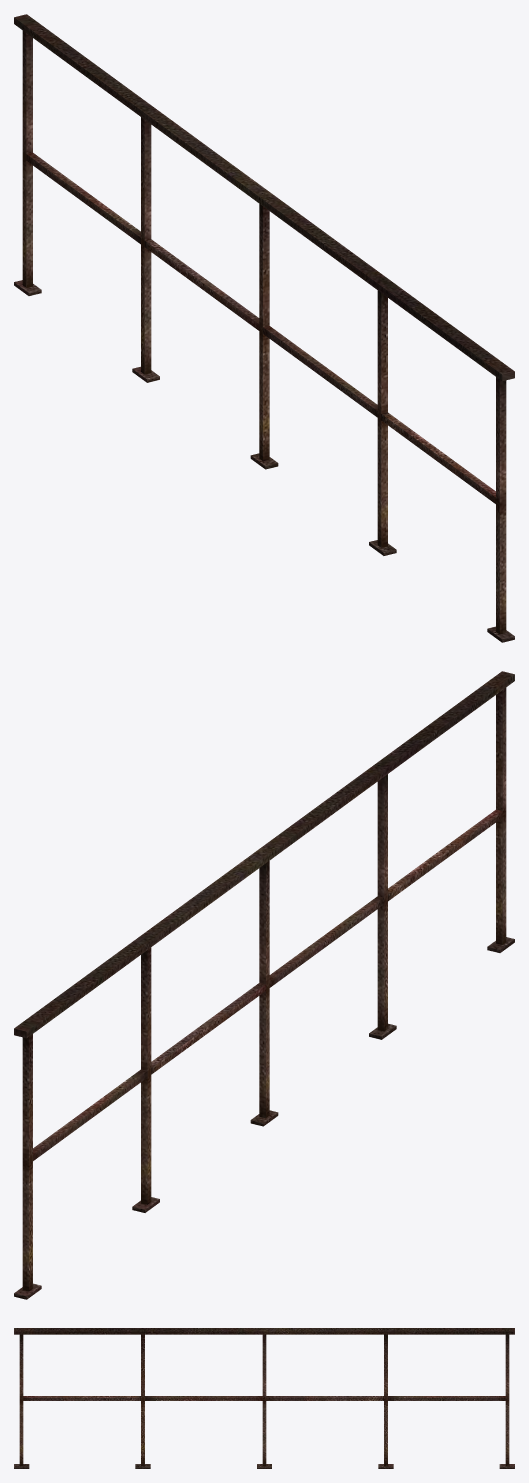
File: handrail_singlespan_128.glb
The picture shows the model from 3 angles, top to bottom: view 1: azimuth 30°, elevation 25°; view 2: azimuth 150°, elevation 25°; view 3: azimuth 270°, elevation 25°; orthographic projection. The views are drawn at different scales.
Parts seen in each view (by area): view 1: 0_de_train_handrails_01; view 2: 0_de_train_handrails_01; view 3: 0_de_train_handrails_01.
Part boxes in pixels (x1,y1,x2,y2): 0_de_train_handrails_01: [14, 14, 514, 642]; 0_de_train_handrails_01: [14, 671, 514, 1299]; 0_de_train_handrails_01: [14, 1328, 514, 1468].
Bounding box in the file's own units: 0.0508 × 1.02 × 3.35.
1 material, 1 textured.
